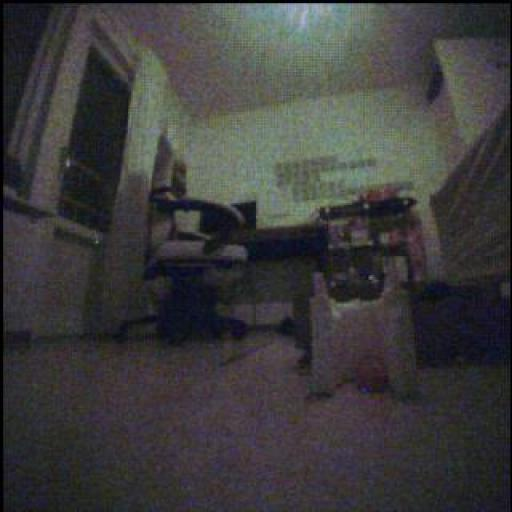basket: (359, 353, 392, 394)
